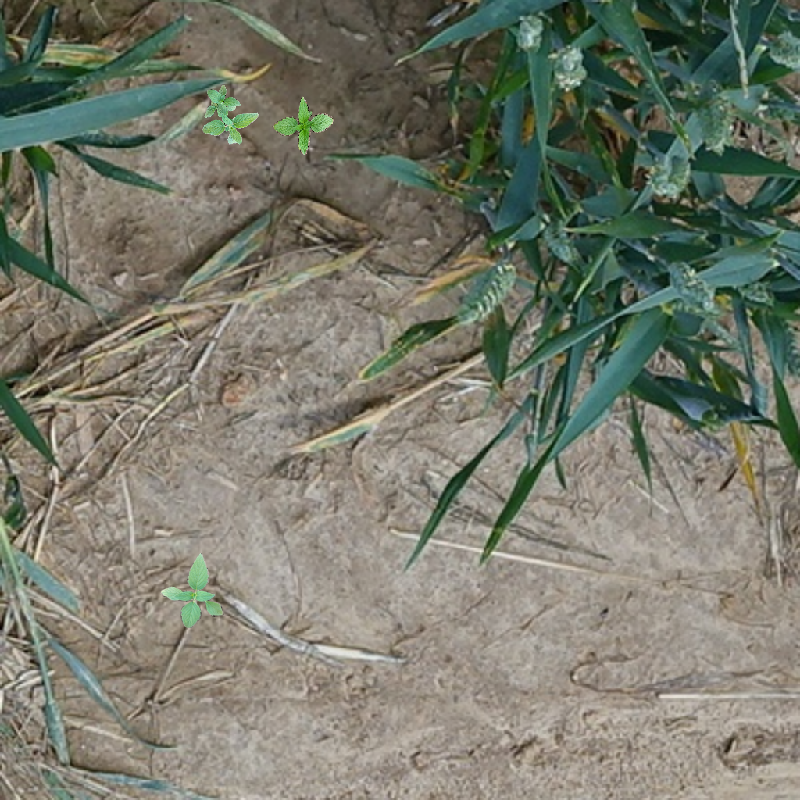spikelet: (453, 260, 516, 329), (664, 256, 717, 320), (696, 80, 734, 153), (644, 146, 691, 202), (537, 213, 581, 263), (546, 42, 588, 92), (761, 25, 800, 69), (511, 8, 547, 53), (768, 96, 800, 124)
weed: (185, 78, 264, 156), (267, 90, 339, 162), (160, 553, 224, 628)
